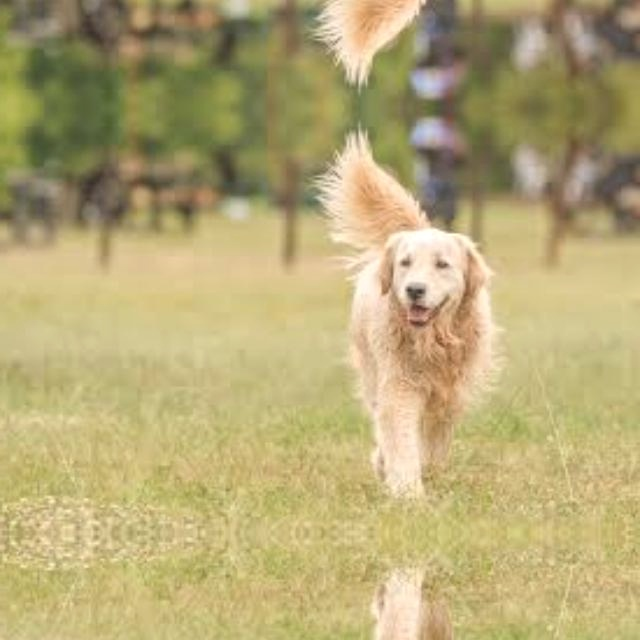dog: (321, 122, 513, 493), (321, 0, 514, 91), (321, 571, 514, 640)
